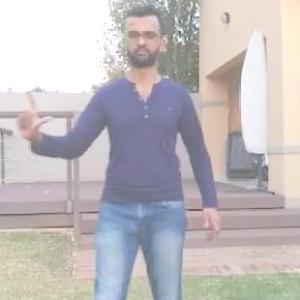land_hand: (6, 82, 55, 147)
